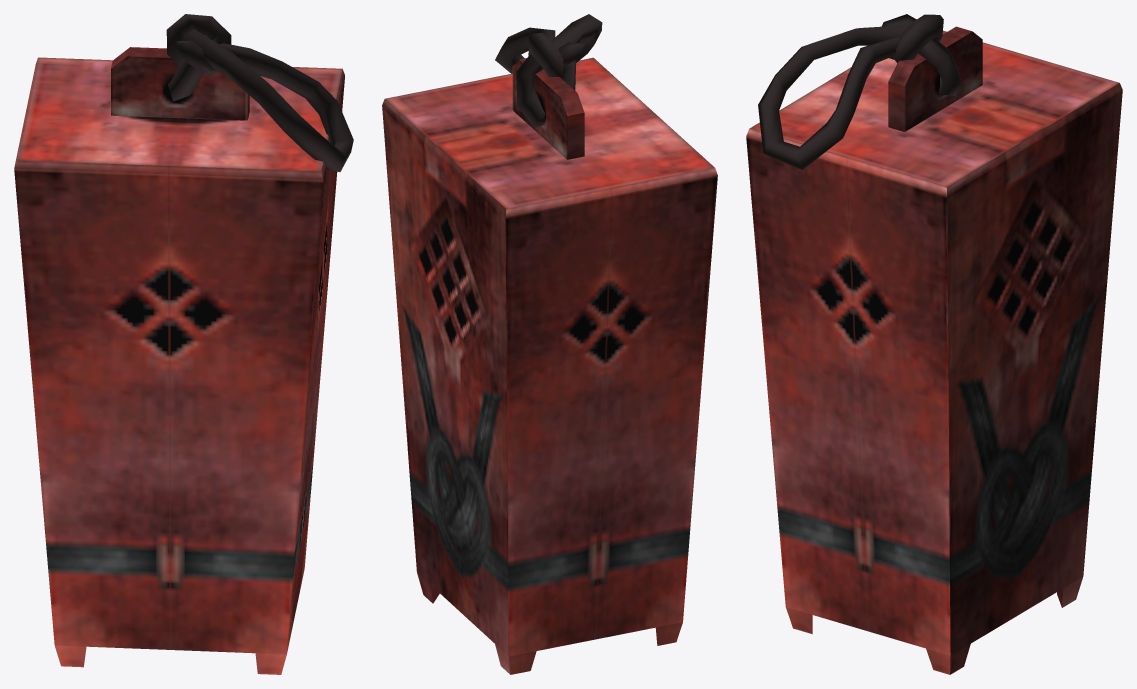
Rendered from base.ico.obj.
3 views of the same model, side by side, from view 1: azimuth 30°, elevation 25°; view 2: azimuth 150°, elevation 25°; view 3: azimuth 270°, elevation 25° (orthographic). The views are drawn at different scales.
Size of the model in its own units: 2.68 by 4.55 by 2.57.
1 material, 1 textured.
